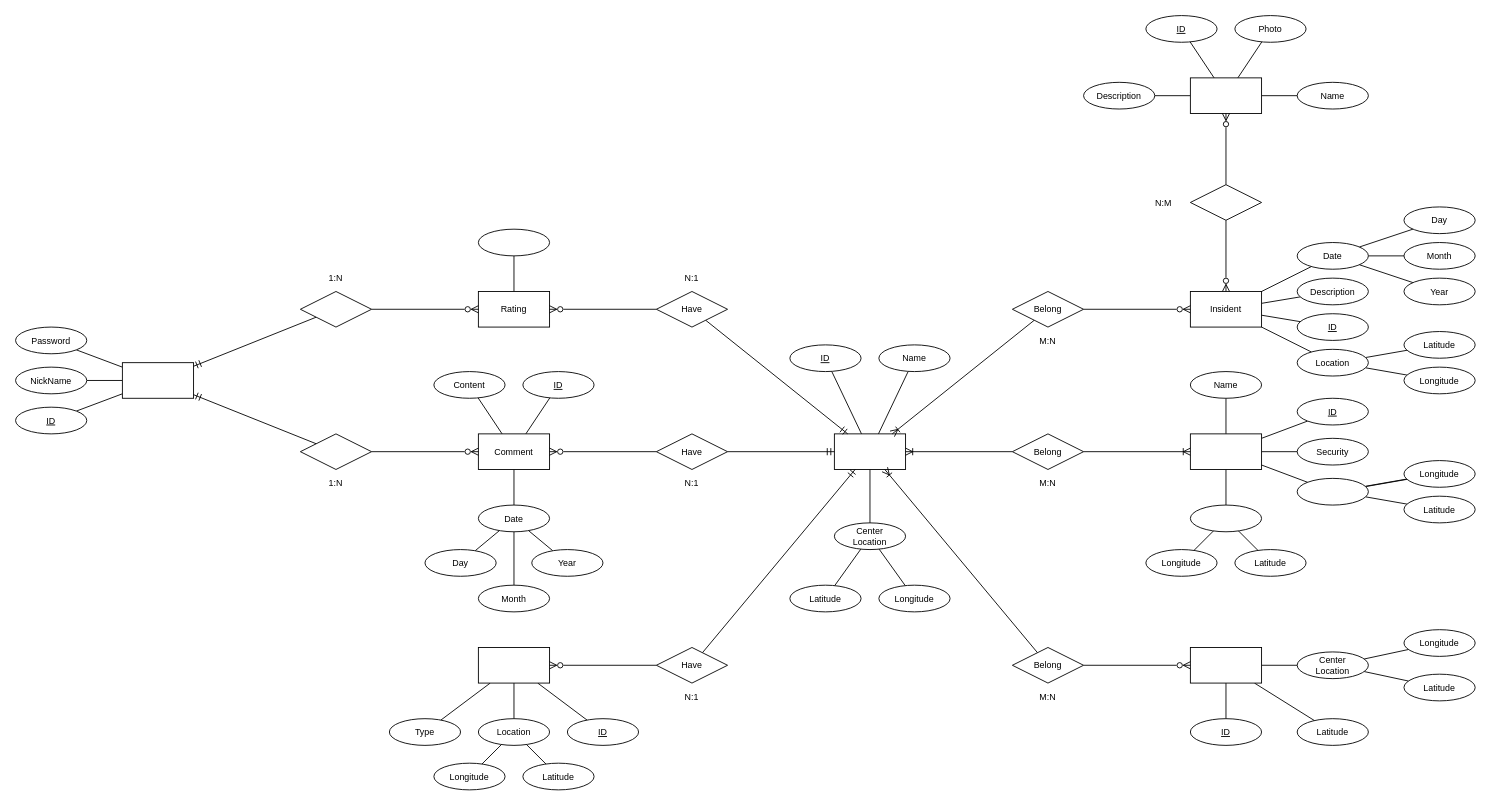
Image size: 1491x805. Some labels were removed from this diagram. The box of each missing label's shape, as (x1, y1, x2, y2) in pixels:
Criminal: (1189, 77, 1262, 113)
DangerArea: (1189, 647, 1262, 683)
District: (833, 433, 906, 469)
End Location: (1189, 504, 1262, 532)
Give: (299, 291, 372, 327)
Involved: (1189, 184, 1262, 220)
Post: (299, 433, 372, 469)
Start Location: (1296, 477, 1368, 505)
Station: (477, 647, 550, 683)
Street: (1189, 433, 1262, 469)
User: (121, 362, 194, 398)
Value: (477, 228, 550, 256)
